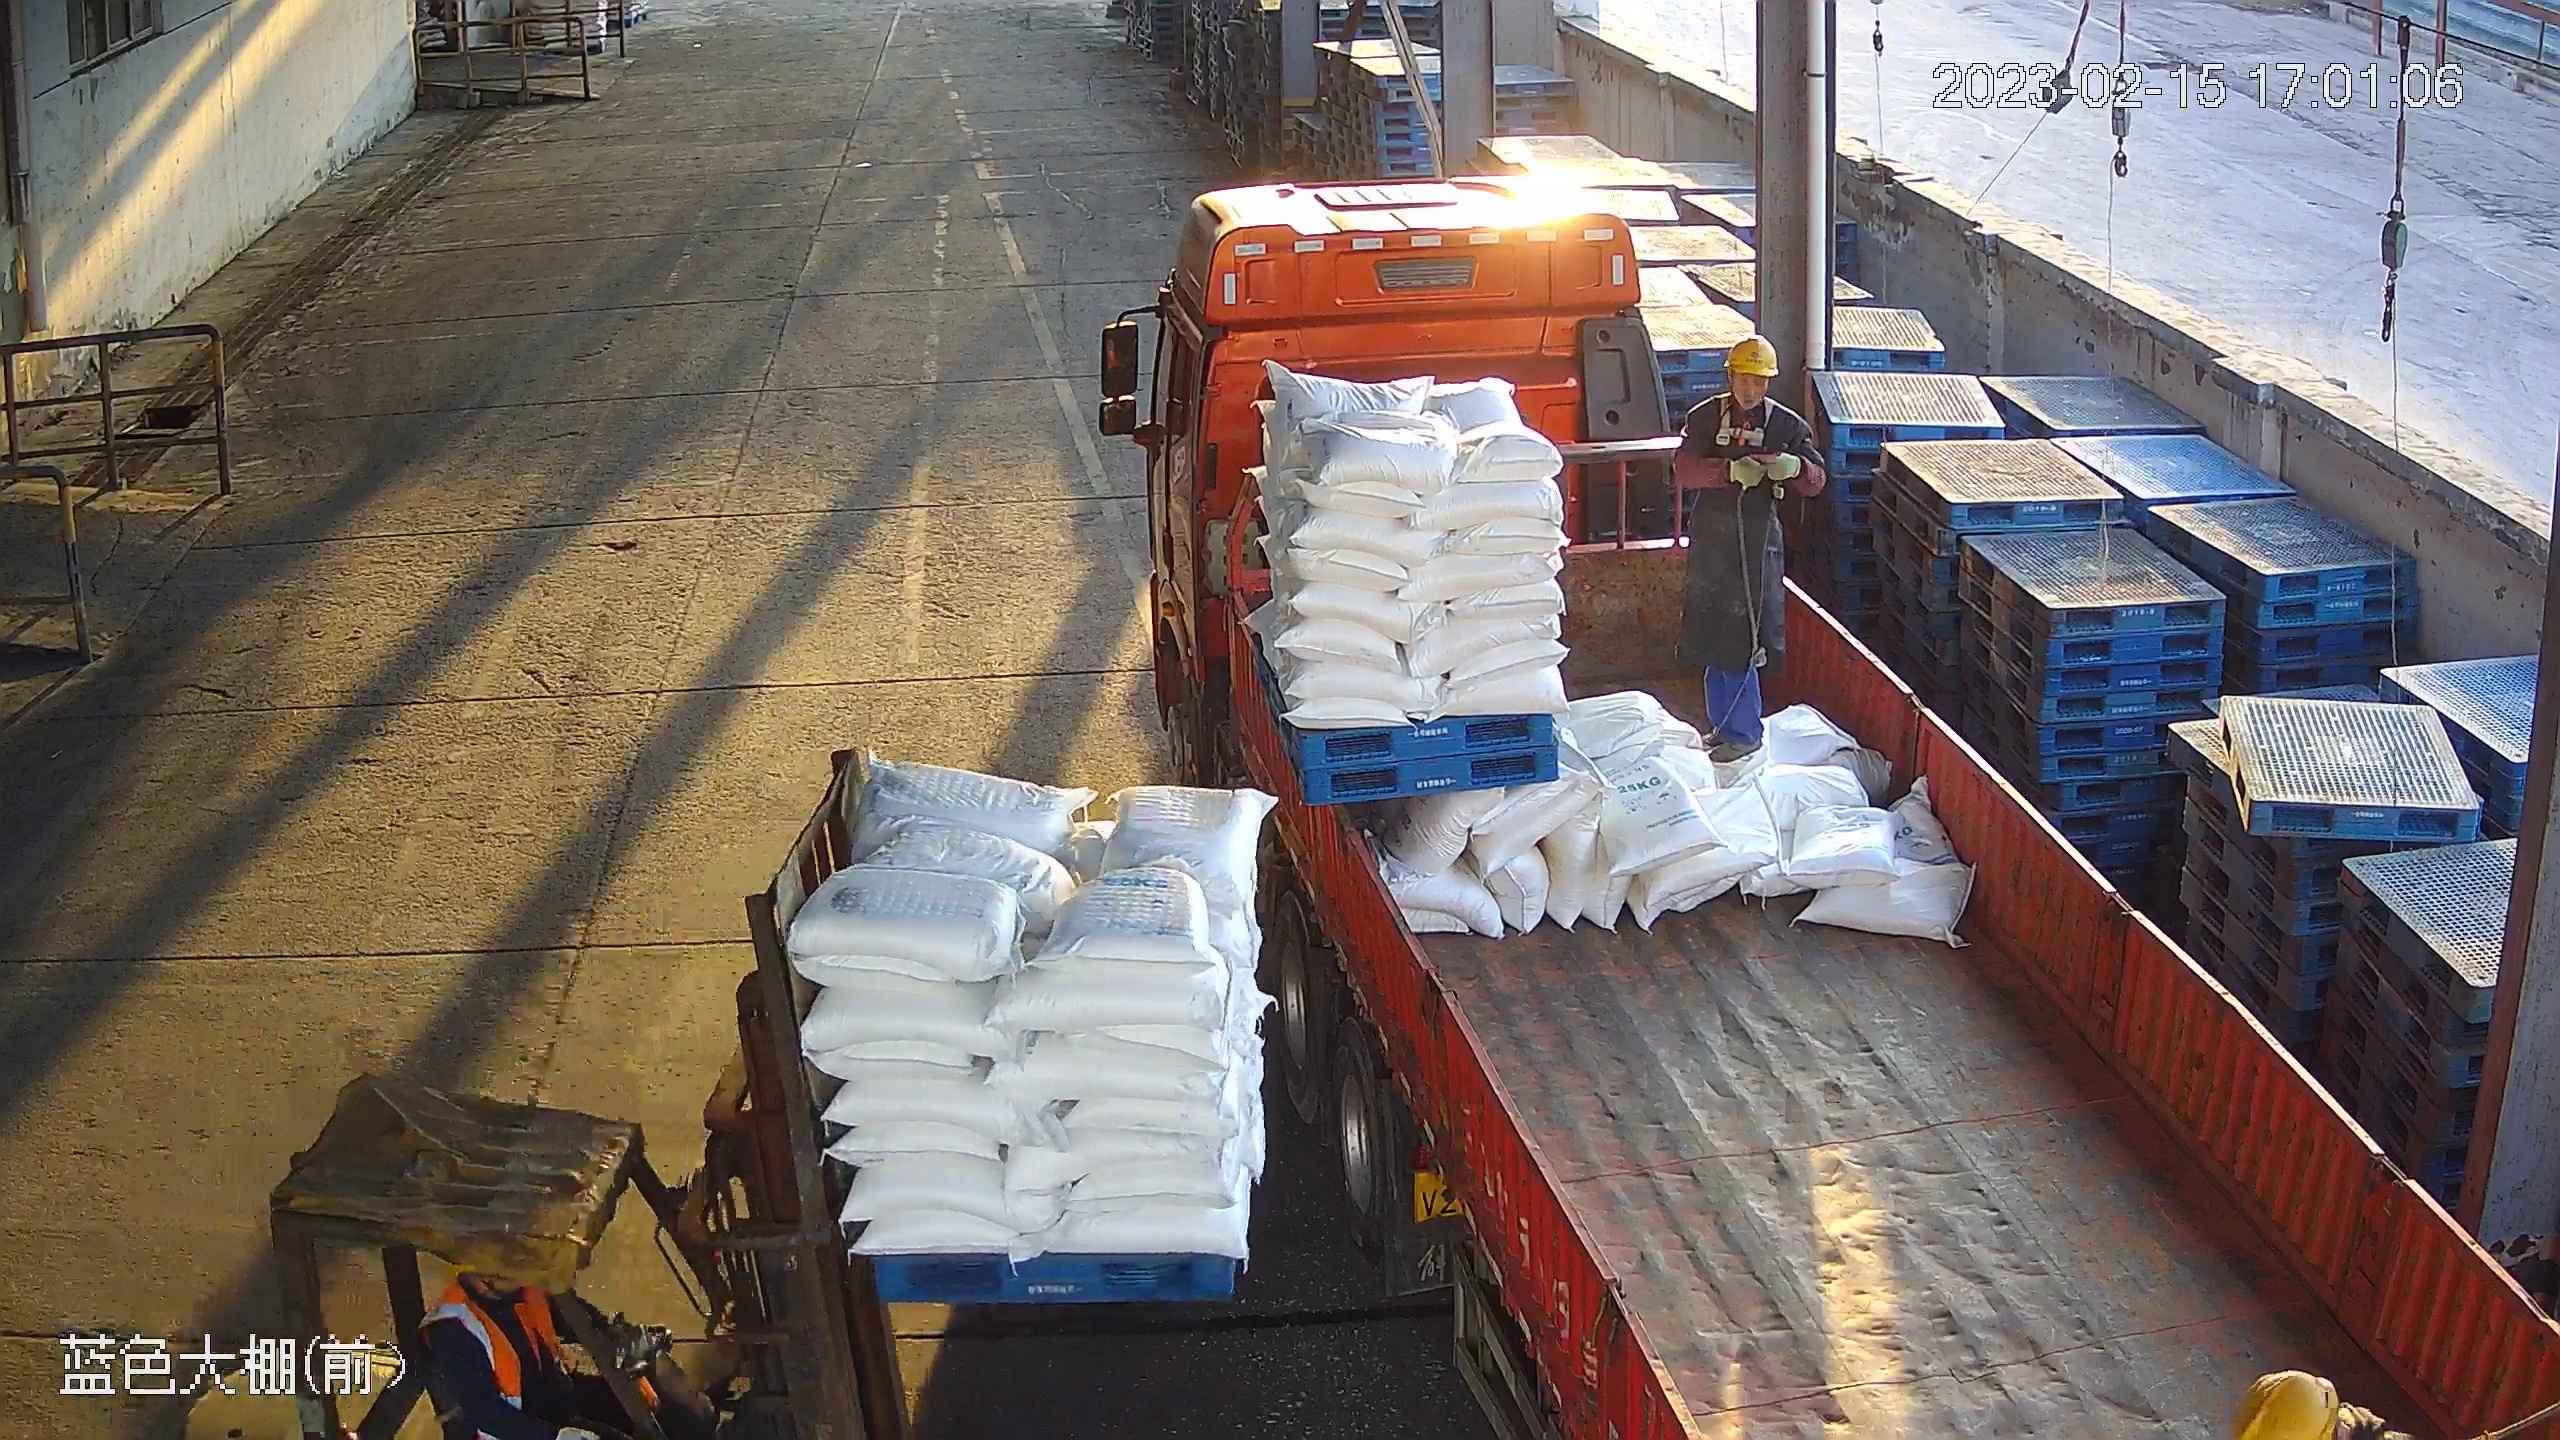belt: (1701, 403, 1781, 450)
head: (1674, 337, 1801, 469)
helmet: (2234, 1372, 2339, 1440), (1725, 340, 1776, 378)
people: (1671, 335, 1830, 766)
truck: (1096, 178, 2560, 1440)
